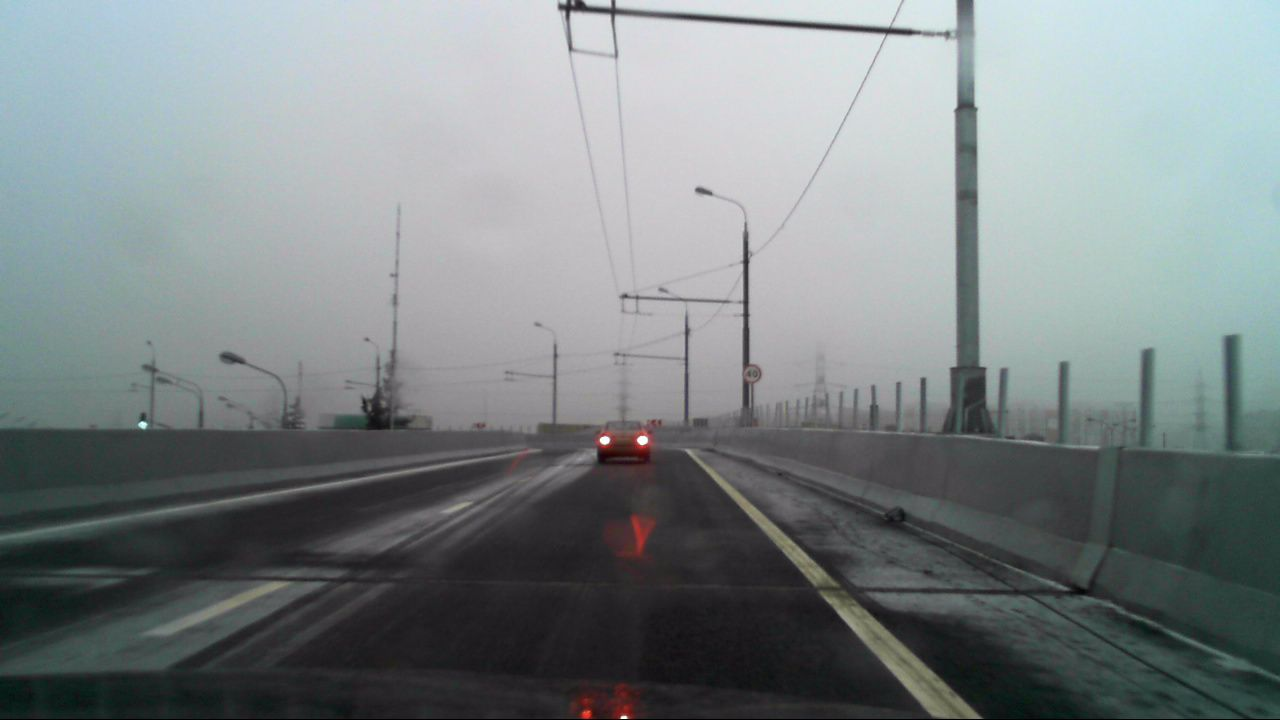speed_warning_40: (742, 364, 761, 384)
